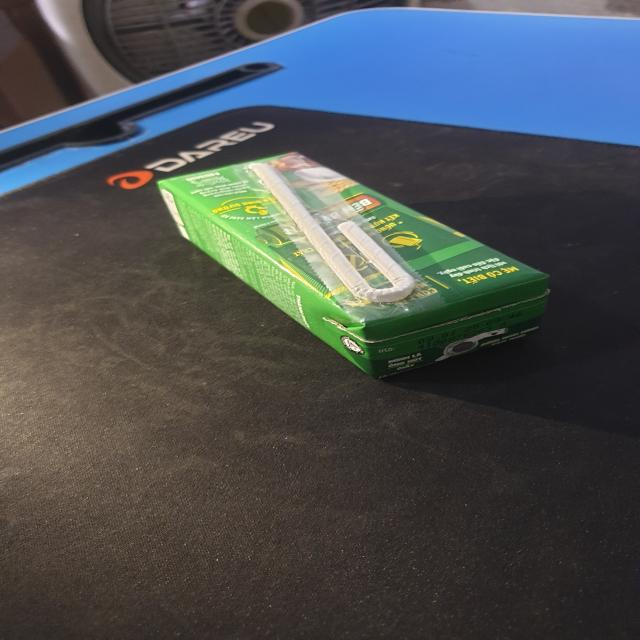Milo: (155, 149, 553, 385)
